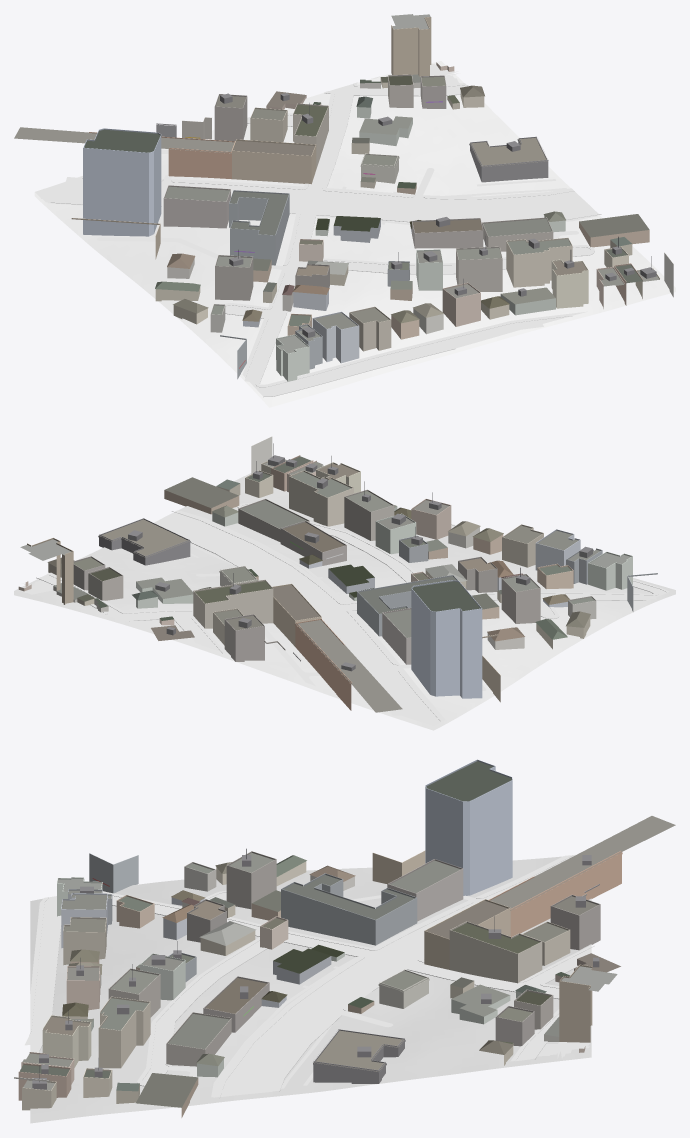
3 views of the same model, one above another, from view 1: azimuth 30°, elevation 25°; view 2: azimuth 150°, elevation 25°; view 3: azimuth 270°, elevation 25° (orthographic). The views are drawn at different scales.
Visible parts, largest first — view 1: t0_-5_-7; view 2: t0_-5_-7; view 3: t0_-5_-7.
Part boxes in pixels (bbox=[...]): t0_-5_-7: bbox=[14, 14, 675, 407]; t0_-5_-7: bbox=[14, 436, 675, 730]; t0_-5_-7: bbox=[14, 759, 675, 1123].
Bounding box in the file's own units: 281 × 74.45 × 302.
